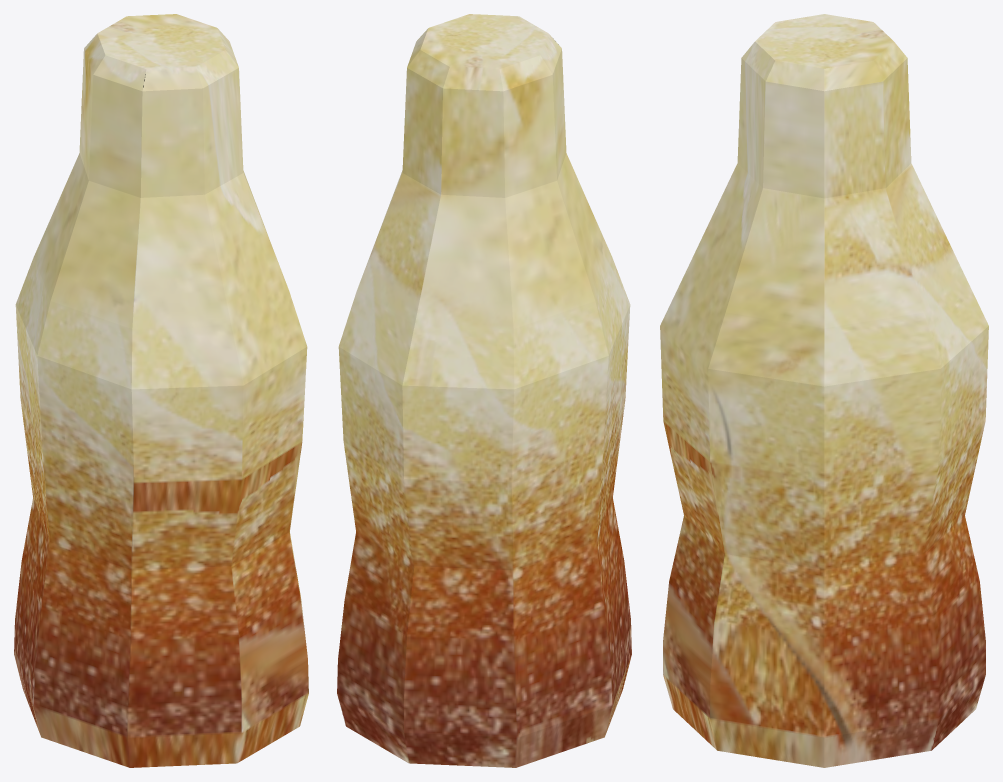
File: cola-bottles.glb
3 renders of one model, left to right at view 1: azimuth 30°, elevation 25°; view 2: azimuth 150°, elevation 25°; view 3: azimuth 270°, elevation 25°, orthographic.
Visible parts, largest first — view 1: Plane; view 2: Plane; view 3: Plane.
Boxes of the visible parts, box(x1,y1,x2,y2) form: Plane: box(14, 14, 308, 767); Plane: box(337, 14, 631, 767); Plane: box(660, 14, 988, 767).
Size of the model in its own units: 1.44 by 3.58 by 1.6.
Materials: 1 (1 with a texture image).
